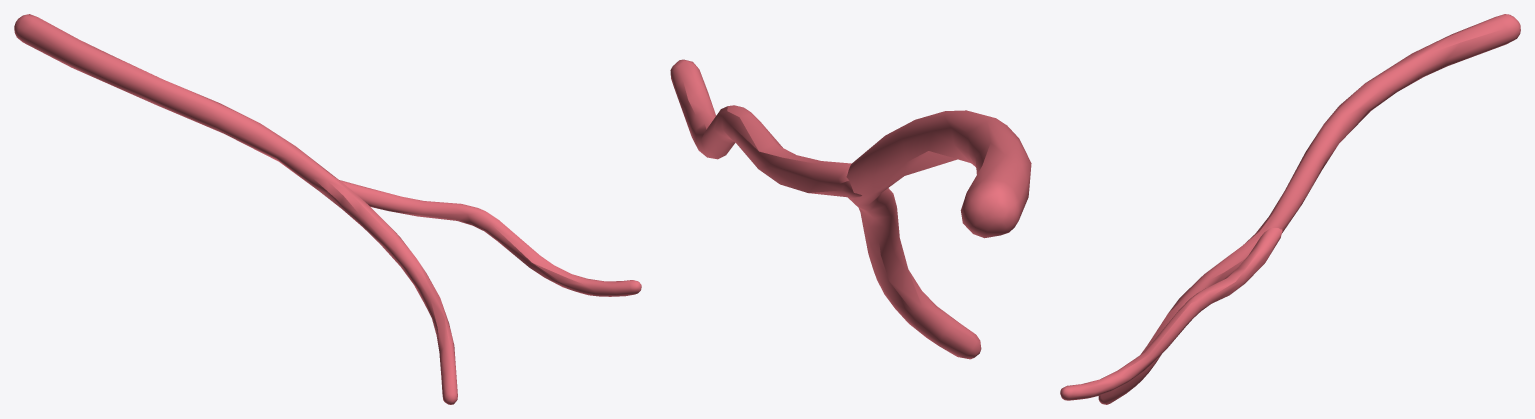
Rendered from fma15804_cx26.glb.
3 views of the same model, side by side, from view 1: azimuth 30°, elevation 25°; view 2: azimuth 150°, elevation 25°; view 3: azimuth 270°, elevation 25° (orthographic). The views are drawn at different scales.
Visible parts, largest first — view 1: FMA15804_CX26; view 2: FMA15804_CX26; view 3: FMA15804_CX26.
Boxes of the visible parts, x1=… form: FMA15804_CX26: x1=14, y1=14, x2=641, y2=404; FMA15804_CX26: x1=670, y1=59, x2=1031, y2=359; FMA15804_CX26: x1=1060, y1=14, x2=1520, y2=404.
Bounding box in the file's own units: 0.023 × 0.016 × 0.0234.
